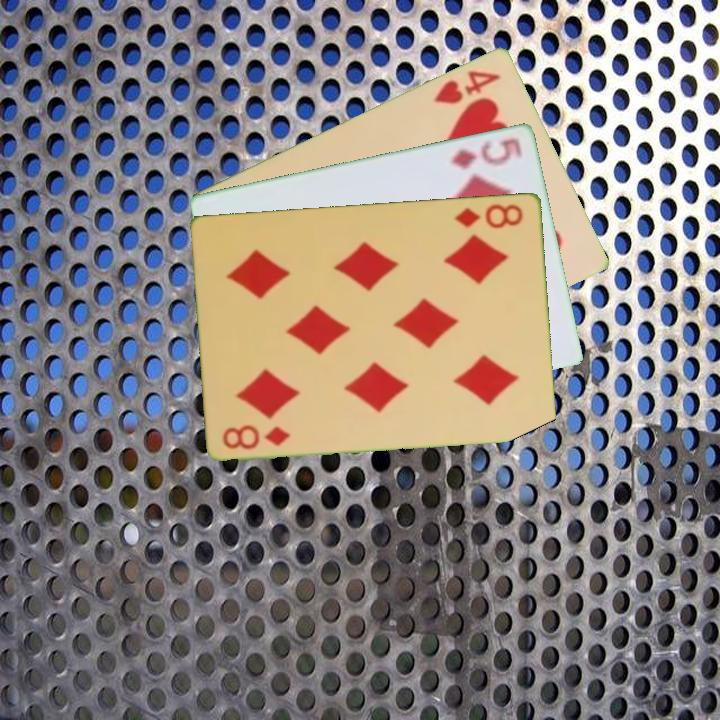4h: (430, 66, 503, 107)
5d: (447, 134, 525, 172)
8d: (219, 421, 294, 452), (452, 200, 526, 231)
